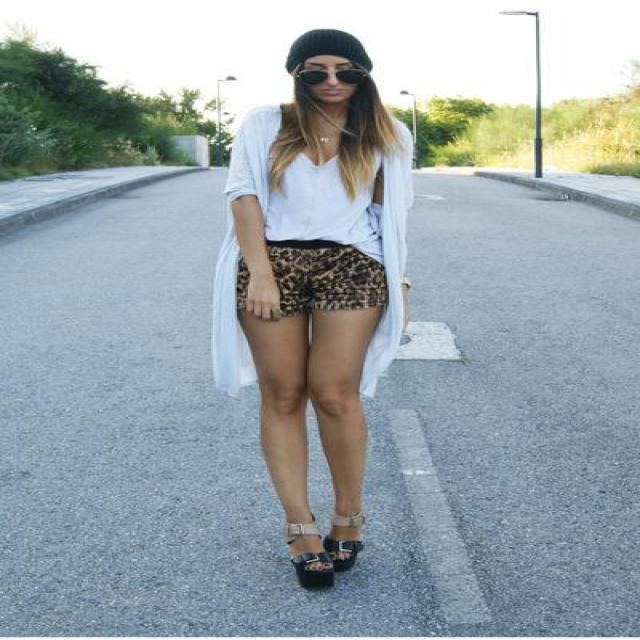hat: (291, 29, 371, 77)
jacket: (196, 106, 434, 396)
shoe: (293, 554, 352, 591)
shorts: (235, 239, 387, 319)
sunglass: (286, 52, 378, 97)
